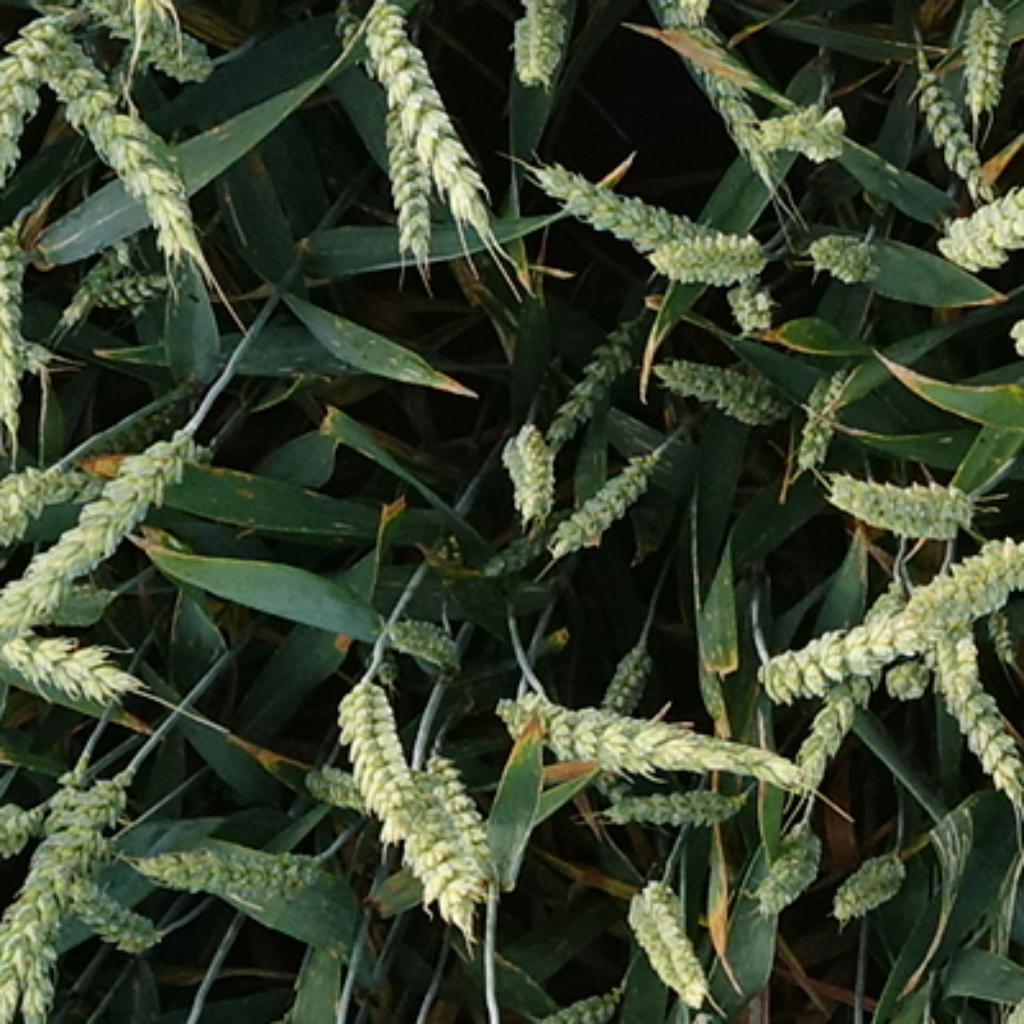0-0: (0, 431, 203, 641), (48, 47, 215, 265), (360, 0, 498, 247), (18, 767, 133, 1024), (535, 688, 816, 791), (640, 0, 775, 179), (0, 763, 88, 1021), (806, 581, 906, 791), (522, 151, 721, 250), (752, 609, 931, 711), (391, 762, 488, 947), (932, 615, 1024, 795), (133, 834, 330, 916), (540, 299, 657, 432), (330, 668, 424, 821), (555, 432, 675, 550), (0, 6, 70, 200), (76, 0, 220, 89), (908, 64, 1000, 202), (623, 878, 720, 1008), (652, 337, 791, 422), (2, 632, 156, 706), (938, 148, 1024, 278), (824, 468, 985, 537), (901, 537, 1024, 620), (378, 104, 435, 281), (593, 770, 752, 829), (76, 872, 171, 962), (427, 747, 499, 865), (637, 227, 773, 289), (747, 811, 826, 911), (2, 222, 38, 437), (72, 266, 185, 332), (750, 87, 852, 158), (826, 834, 913, 916), (952, 0, 1016, 110), (791, 358, 855, 465), (506, 0, 581, 89), (494, 414, 558, 512), (591, 632, 665, 714), (460, 522, 558, 581), (376, 601, 463, 665), (803, 217, 883, 279), (522, 977, 627, 1024), (0, 465, 52, 559), (21, 461, 113, 505), (491, 678, 547, 747), (719, 266, 780, 327), (302, 755, 363, 803), (2, 798, 51, 857), (883, 657, 936, 709), (979, 598, 1018, 662), (645, 0, 721, 15)
